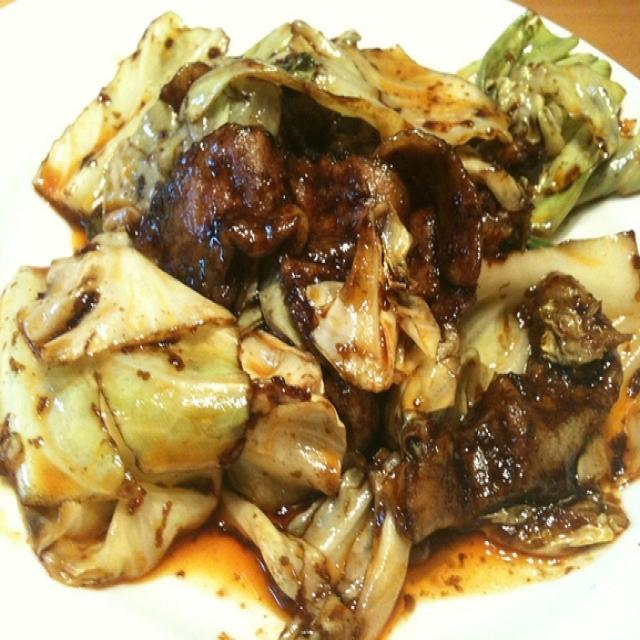猪肉菜式: (18, 10, 638, 631)
